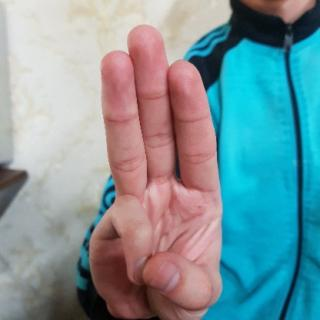THA: (81, 18, 233, 320)
